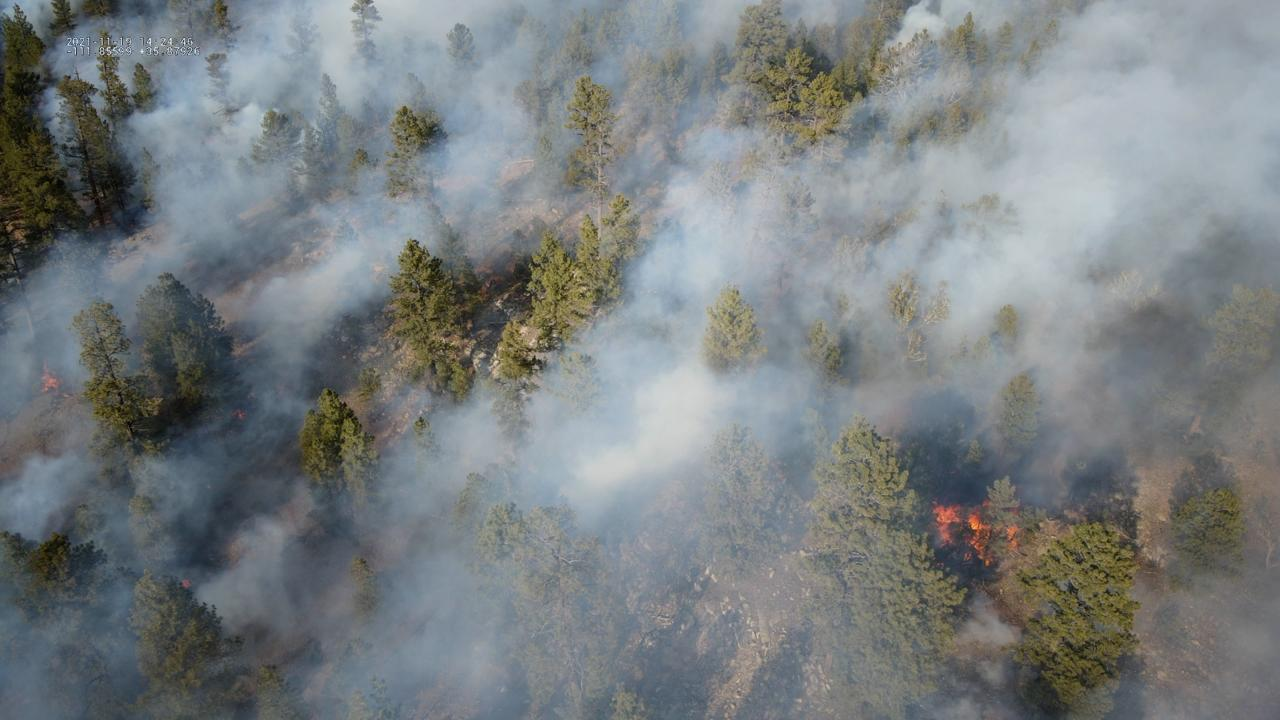fire: (931, 497, 1024, 568), (37, 361, 65, 393), (227, 406, 248, 421)
smoke: (0, 0, 1280, 720)
